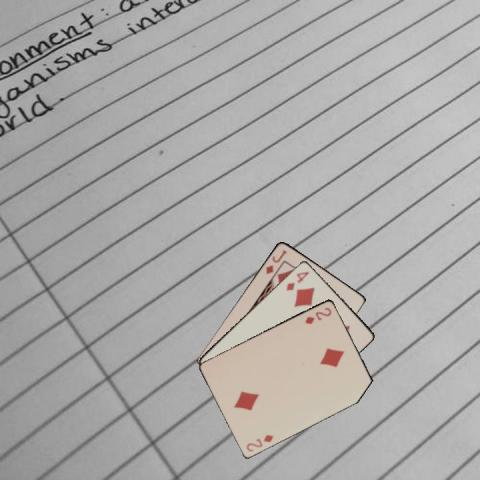2d: (243, 431, 275, 453), (302, 304, 333, 325)
4d: (283, 268, 311, 292)
Jd: (263, 247, 288, 275)
